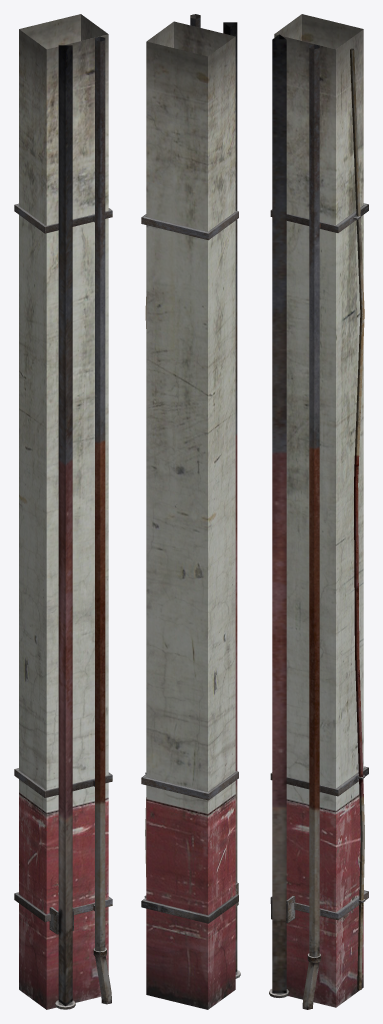
Rendered from Pillar.FBX.
3 renders of one model, left to right at view 1: azimuth 30°, elevation 25°; view 2: azimuth 150°, elevation 25°; view 3: azimuth 330°, elevation 25°, orthographic.
Visible parts, largest first — view 1: Pillar; view 2: Pillar; view 3: Pillar.
Boxes of the visible parts, x1,y1,x2,y2 form: Pillar: (14, 14, 112, 1009); Pillar: (141, 14, 240, 1009); Pillar: (269, 14, 368, 1009).
Bounding box in the file's own units: 31.87 × 35.05 × 408.
Materials: 1 (1 with a texture image).
